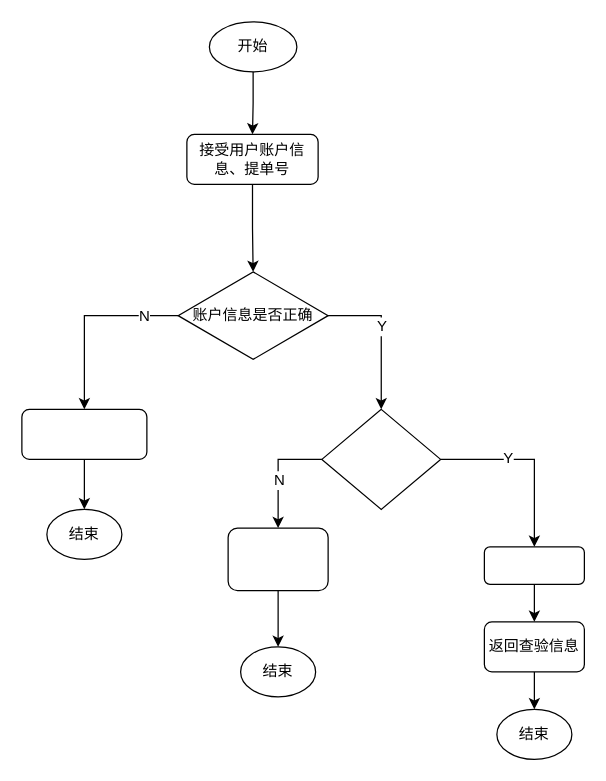
Some shapes in this 606 by 781 pixel diagram are drawn without their labels. Each missing label, with the centre of its shape:
提单号是否订阅: (381,458)
获取查验数据: (533,565)
返回提单未订阅信息: (277,559)
返回账号信息错误: (84,433)
